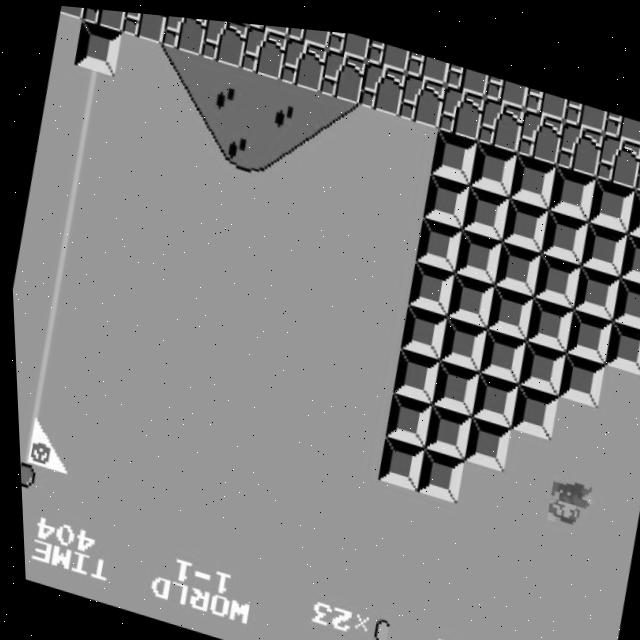11- little_mario: (540, 464, 594, 525)
17- undestructible_block: (552, 108, 604, 166), (513, 97, 565, 155), (474, 86, 526, 144), (434, 74, 486, 132), (395, 63, 447, 121), (355, 52, 407, 110), (316, 40, 368, 98), (277, 29, 329, 87), (237, 18, 289, 76), (592, 120, 640, 177), (198, 15, 250, 65), (159, 12, 210, 53), (120, 9, 171, 42), (482, 64, 529, 99), (561, 87, 607, 122), (522, 76, 568, 110), (443, 54, 489, 88), (403, 42, 449, 76), (364, 31, 410, 65), (325, 25, 371, 54), (601, 98, 640, 132), (80, 6, 131, 31), (286, 22, 332, 42), (246, 19, 291, 31), (631, 131, 640, 185), (59, 4, 90, 19)
7- goal_pole: (24, 281, 76, 339), (32, 237, 84, 295), (63, 61, 115, 119), (48, 149, 99, 207), (16, 326, 67, 383), (40, 194, 91, 251), (56, 106, 107, 163), (13, 370, 59, 426), (14, 414, 51, 471), (16, 459, 44, 515)
9- hard_block: (560, 296, 612, 354), (584, 164, 636, 222), (505, 372, 557, 430), (536, 196, 588, 254), (544, 152, 596, 210), (457, 405, 509, 463), (465, 361, 517, 419), (481, 273, 533, 331), (497, 185, 549, 243), (418, 394, 470, 452), (426, 350, 478, 408), (442, 262, 494, 320), (458, 174, 510, 232), (466, 130, 518, 188), (378, 382, 430, 440), (386, 338, 438, 396), (402, 250, 454, 308), (418, 162, 470, 220), (71, 17, 123, 75), (576, 208, 628, 265), (505, 142, 557, 199), (426, 119, 478, 176), (521, 284, 572, 342), (513, 329, 564, 386), (529, 241, 580, 298), (474, 318, 525, 375), (490, 230, 541, 287), (371, 427, 422, 484), (395, 295, 446, 352), (411, 207, 462, 264), (552, 341, 603, 397), (568, 253, 619, 309), (411, 439, 462, 495), (450, 219, 501, 275), (435, 307, 485, 363), (599, 307, 640, 364), (608, 263, 640, 319), (615, 218, 640, 274), (623, 175, 640, 230)
